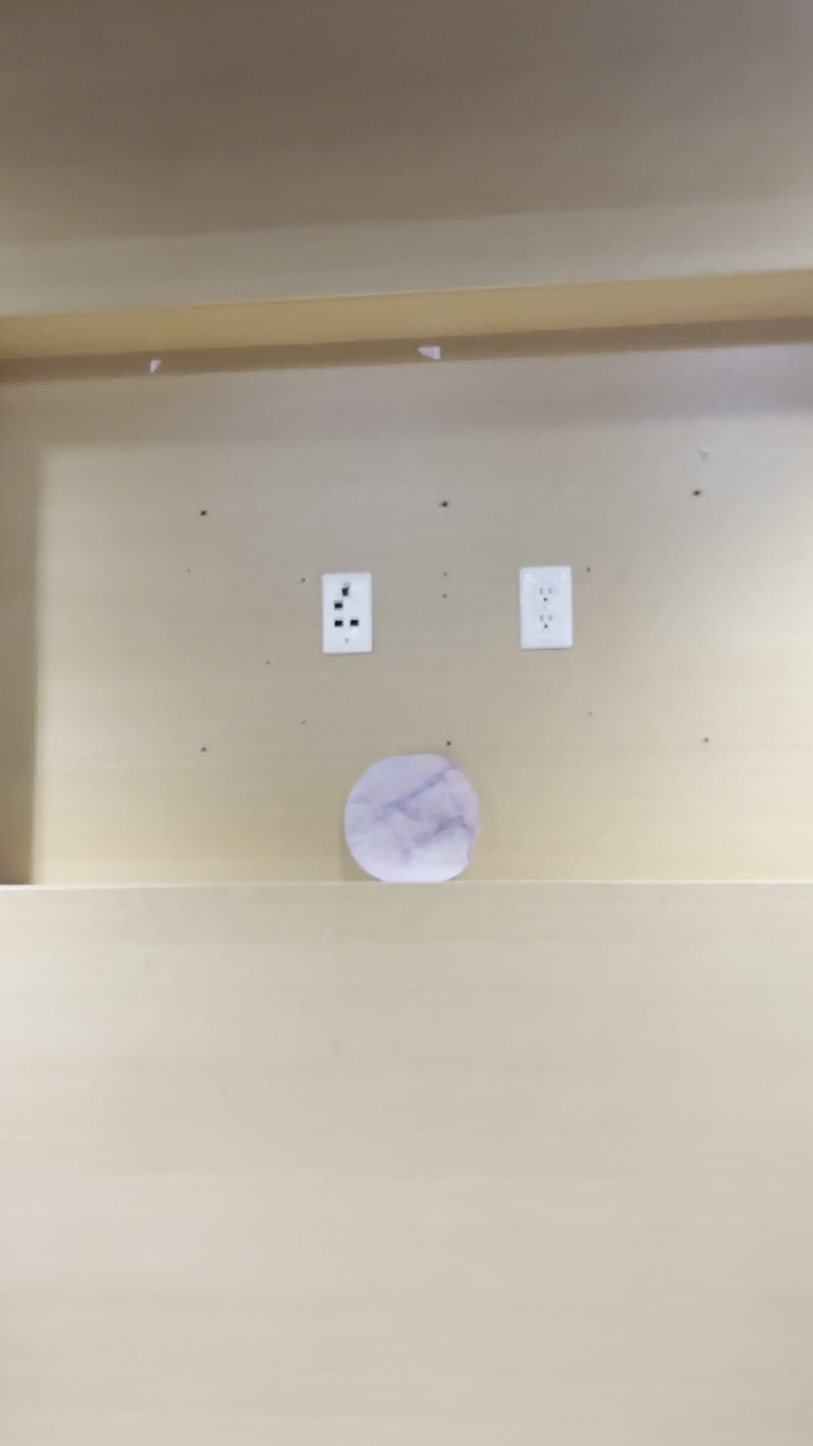Target: (348, 754, 477, 884)
